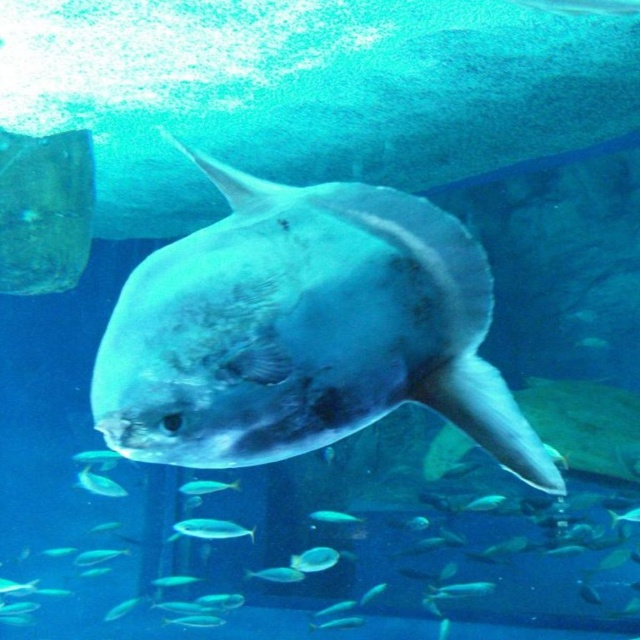Fish: (0, 128, 640, 640)
